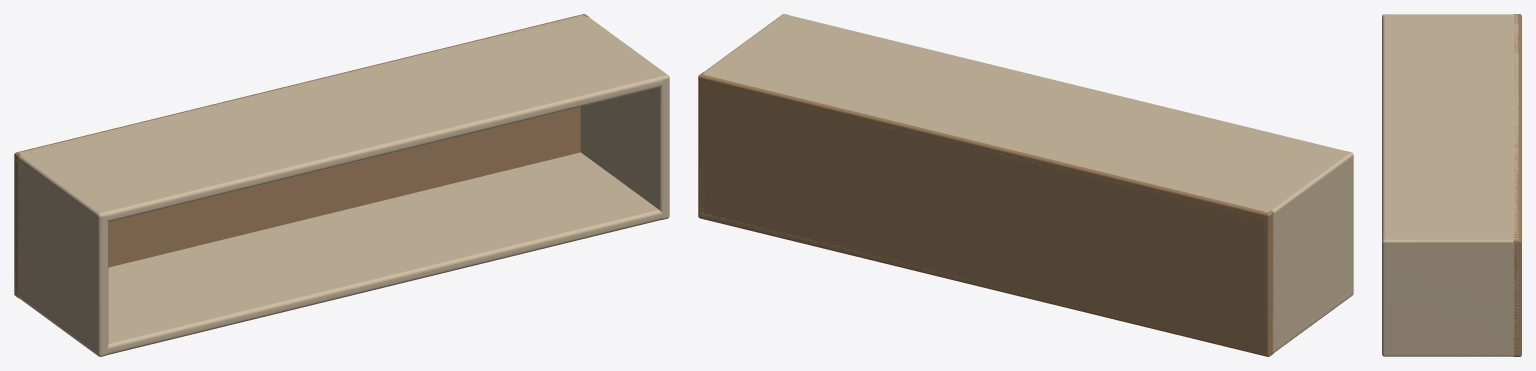
The picture shows the model from 3 angles, left to right: view 1: azimuth 30°, elevation 25°; view 2: azimuth 150°, elevation 25°; view 3: azimuth 270°, elevation 25°; orthographic projection. The views are drawn at different scales.
Visible parts, largest first — view 1: top, bottom, back, side_-1, side_1; view 2: back, top, side_-1, bottom; view 3: top, side_1, back, bottom, side_-1.
Part boxes in pixels (x1,y1,x2,y2): top: (15, 15, 667, 221); bottom: (15, 152, 667, 354); back: (14, 14, 589, 298); side_-1: (15, 151, 108, 356); side_1: (580, 15, 669, 219); back: (698, 72, 1273, 356); top: (703, 14, 1352, 219); side_-1: (1264, 151, 1353, 352); bottom: (700, 212, 1352, 351); top: (1382, 14, 1518, 244); side_1: (1382, 237, 1519, 356); back: (1513, 14, 1521, 356); bottom: (1385, 352, 1514, 354); side_-1: (1382, 14, 1518, 18).
Bounding box in the file's own units: 1 × 0.24 × 0.26.
